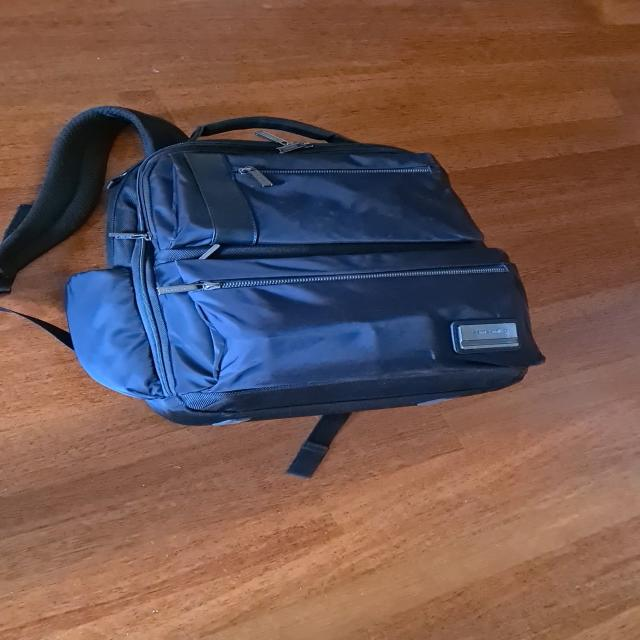backpack: (43, 103, 552, 428)
